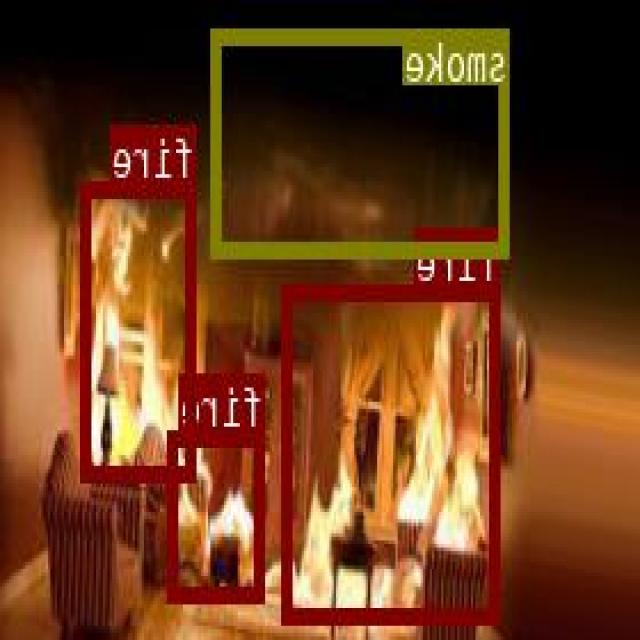fire: (285, 283, 501, 620), (83, 180, 197, 477), (171, 428, 267, 598)
smoke: (215, 28, 510, 253)
